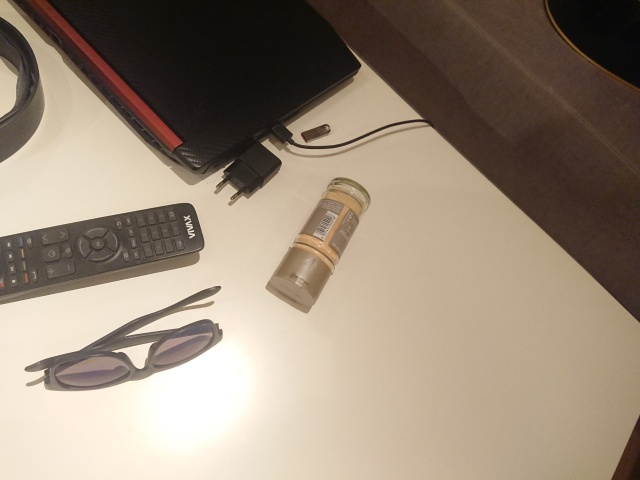Kotanyi Garlic Granules 70g: (267, 175, 374, 309)
